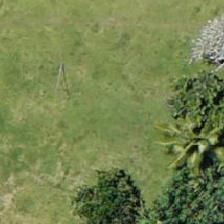coconut_tree: (143, 97, 223, 187)
